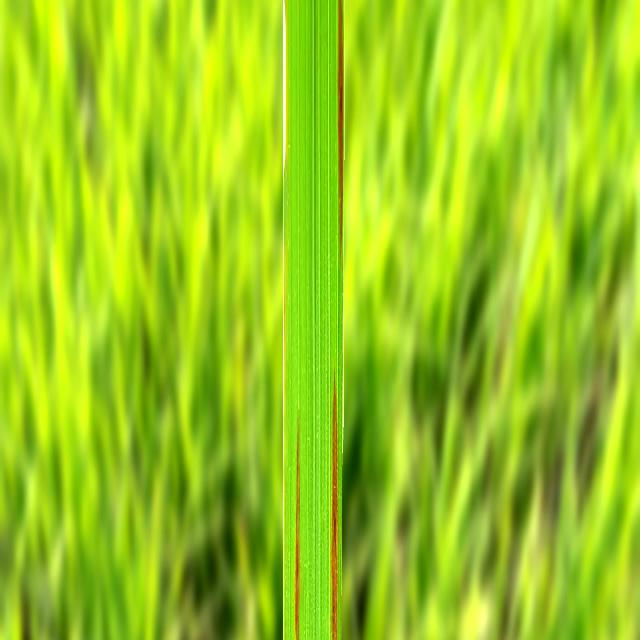NBS: (332, 373, 338, 640), (338, 0, 344, 250), (294, 418, 299, 640)
